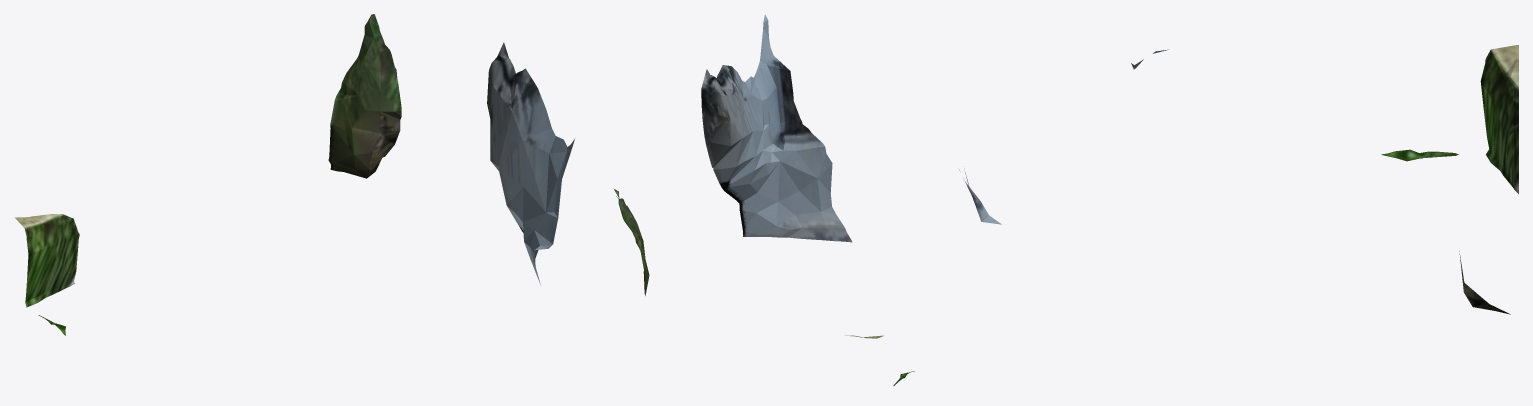
3 views of the same model, side by side, from view 1: azimuth 30°, elevation 25°; view 2: azimuth 150°, elevation 25°; view 3: azimuth 270°, elevation 25° (orthographic). The views are drawn at different scales.
Size of the model in its own units: 3.35 by 2.49 by 3.35.
Materials: 1 (1 with a texture image).
